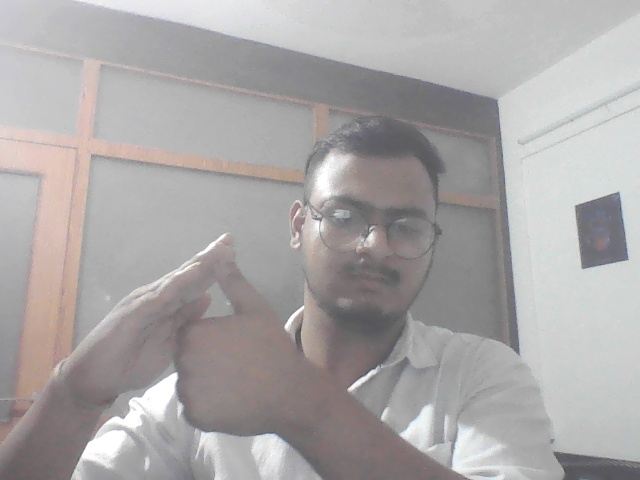I Feel You: (90, 233, 285, 444)
